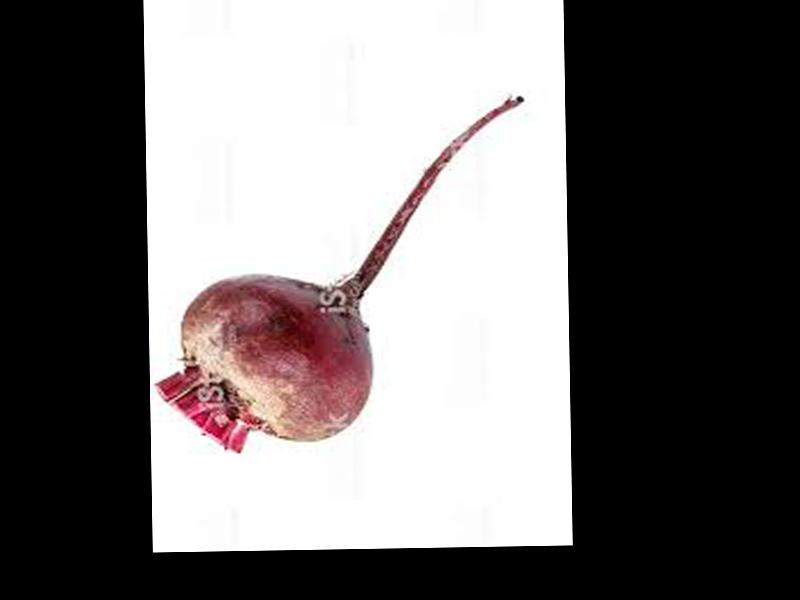Beet: (150, 95, 527, 452)
